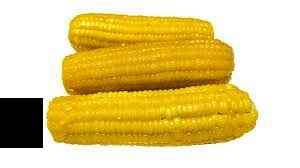corn: (43, 82, 260, 146), (62, 41, 234, 93), (68, 14, 215, 67)
